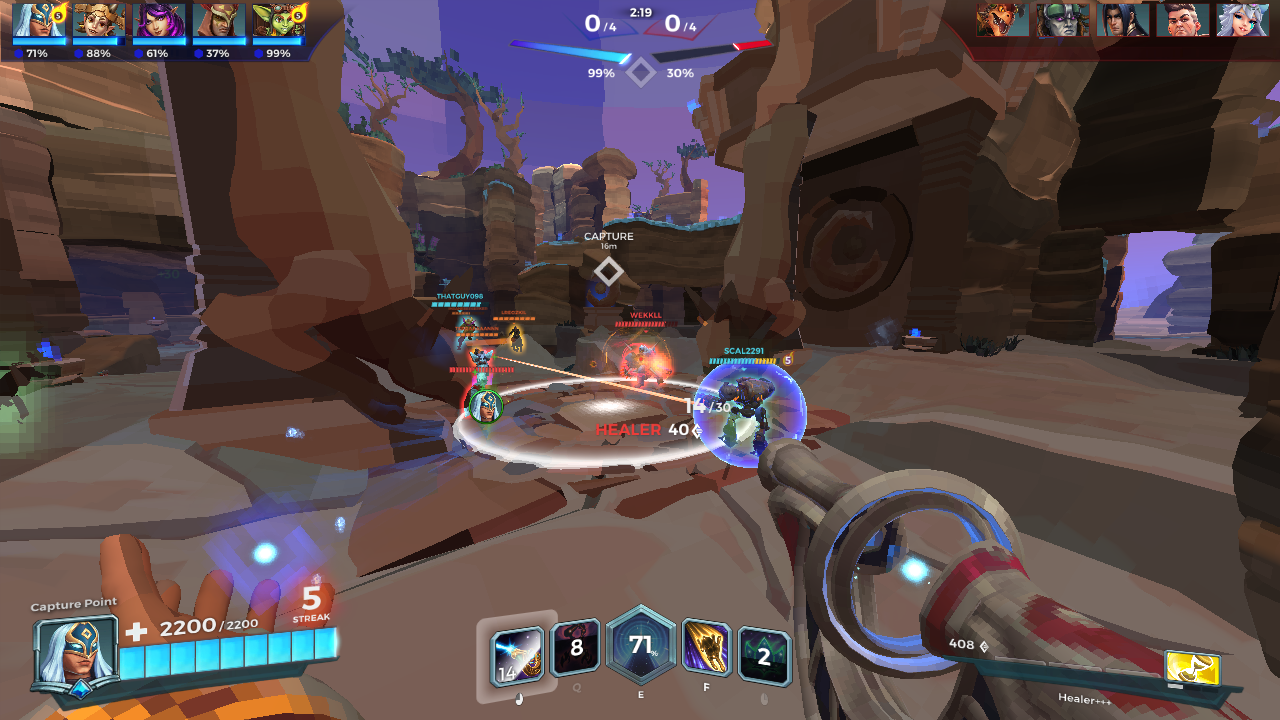model: (616, 337, 671, 395), (455, 347, 497, 414), (509, 322, 523, 353)
